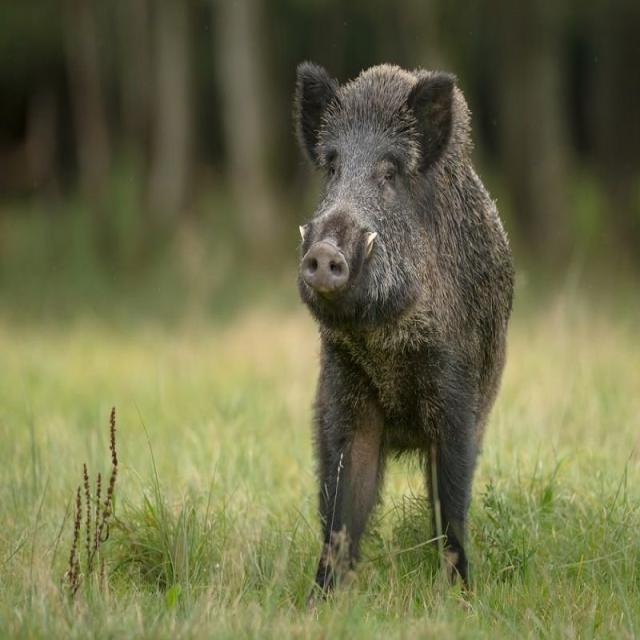Boar: (286, 55, 517, 591)
